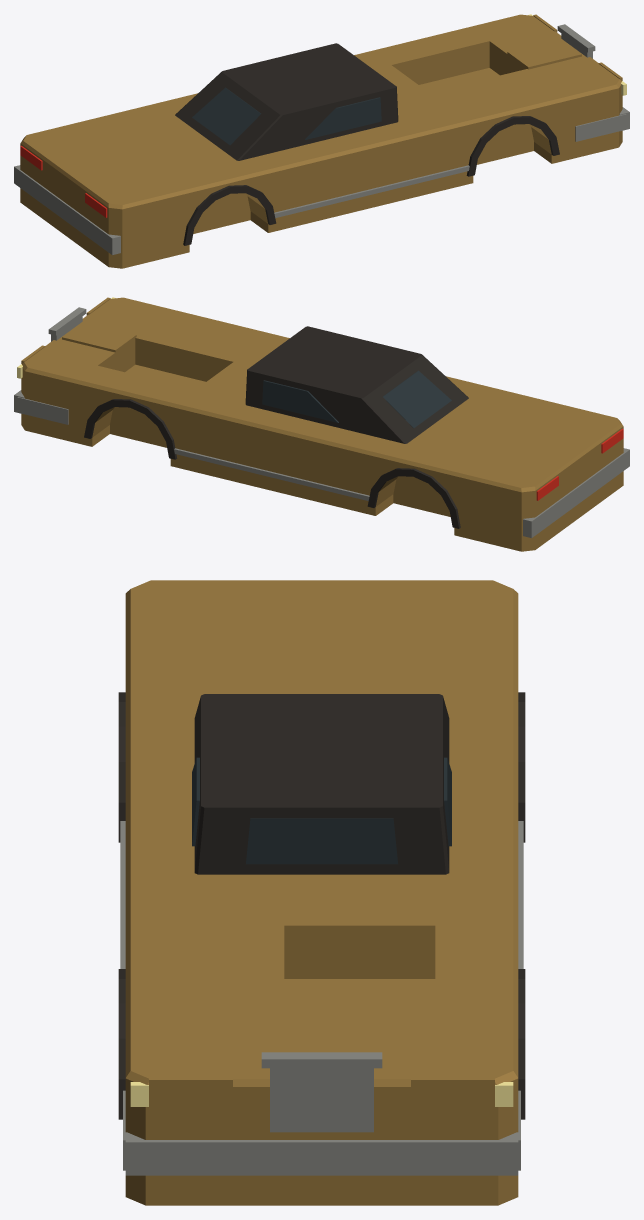
The model's file is base_lincoln.glb.
3 views of the same model, one above another, from view 1: azimuth 30°, elevation 25°; view 2: azimuth 150°, elevation 25°; view 3: azimuth 270°, elevation 25° (orthographic). The views are drawn at different scales.
Visible parts, largest first — view 1: base_lincoln; view 2: base_lincoln; view 3: base_lincoln.
Boxes of the visible parts, bbox=[...] form: base_lincoln: bbox=[14, 14, 629, 268]; base_lincoln: bbox=[14, 297, 629, 551]; base_lincoln: bbox=[118, 580, 525, 1205].
Bounding box in the file's own units: 7.12 × 1.26 × 2.42.
